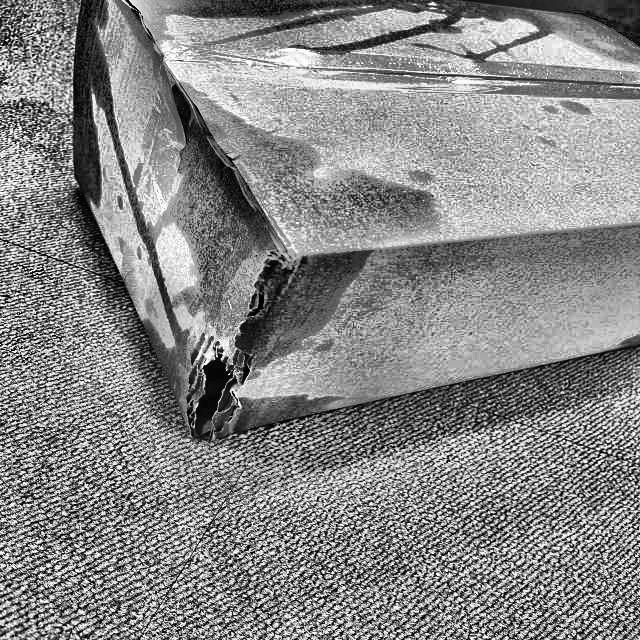box: (69, 0, 640, 452)
hole: (177, 342, 245, 440)
wet: (123, 99, 429, 439)
